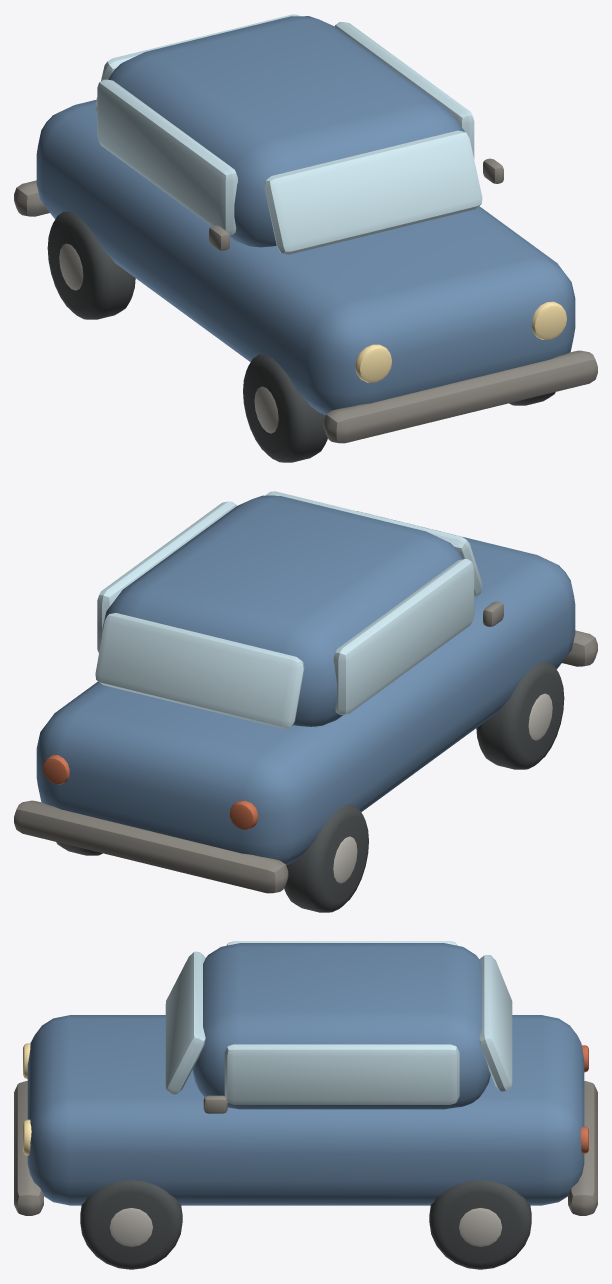
File: car_blue.glb
3 renders of one model, top to bottom at view 1: azimuth 30°, elevation 25°; view 2: azimuth 150°, elevation 25°; view 3: azimuth 270°, elevation 25°, orthographic. The views are drawn at different scales.
Parts seen in each view (by area): view 1: car_blue.001, glass, steel_dark, rubber, light, steel; view 2: car_blue.001, glass, rubber, steel_dark, steel, food_c; view 3: car_blue.001, glass, rubber, steel_dark, steel, light.
Boxes of the visible parts, left/top/right/bottom form: car_blue.001: left=36, top=16, right=575, bottom=415; glass: left=95, top=14, right=482, bottom=254; steel_dark: left=14, top=158, right=597, bottom=443; rubber: left=47, top=211, right=555, bottom=462; light: left=355, top=301, right=566, bottom=382; steel: left=59, top=243, right=278, bottom=433; car_blue.001: left=36, top=495, right=575, bottom=865; glass: left=95, top=491, right=482, bottom=728; rubber: left=56, top=661, right=564, bottom=912; steel_dark: left=14, top=601, right=597, bottom=893; steel: left=333, top=693, right=552, bottom=883; food_c: left=43, top=754, right=258, bottom=829; car_blue.001: left=27, top=943, right=584, bottom=1205; glass: left=165, top=941, right=512, bottom=1104; rubber: left=80, top=1180, right=531, bottom=1269; steel_dark: left=14, top=1081, right=597, bottom=1215; steel: left=109, top=1208, right=502, bottom=1246; light: left=23, top=1043, right=31, bottom=1155.
Bounding box in the file's own units: 0.98 × 0.86 × 1.94.
